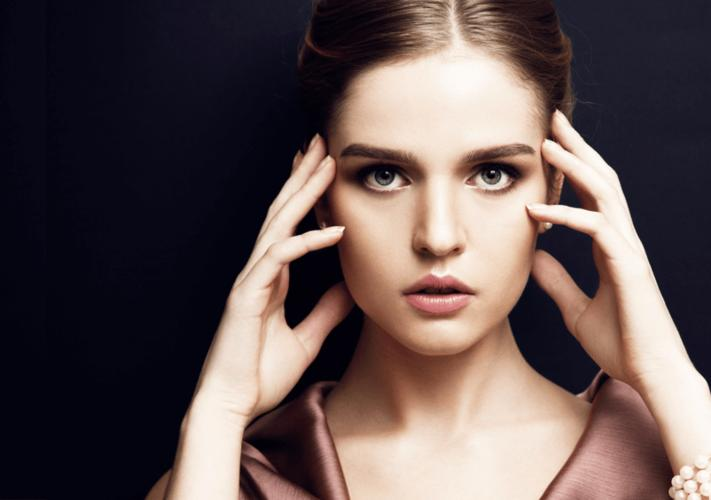no_mask: (325, 47, 550, 357)
